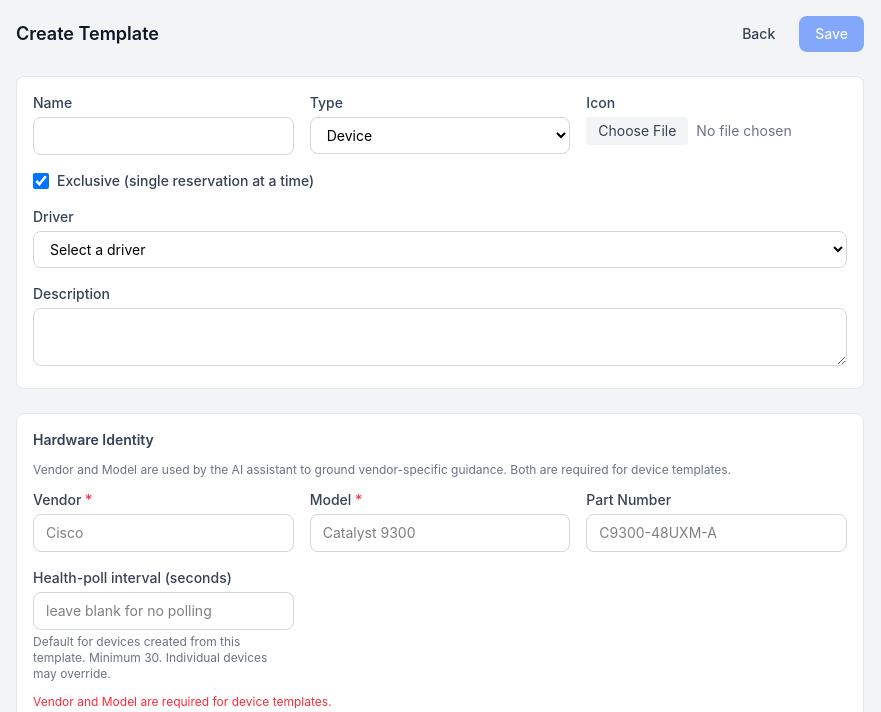
it: TemplateEditorPage (create flow) › dynamic type: does not require vendor/model (identity)
Step 1. Select "Dynamic (Hypervisor)" in the dropdown labelled "Type" → [440, 136], box x1=310 y1=117 x2=570 y2=154
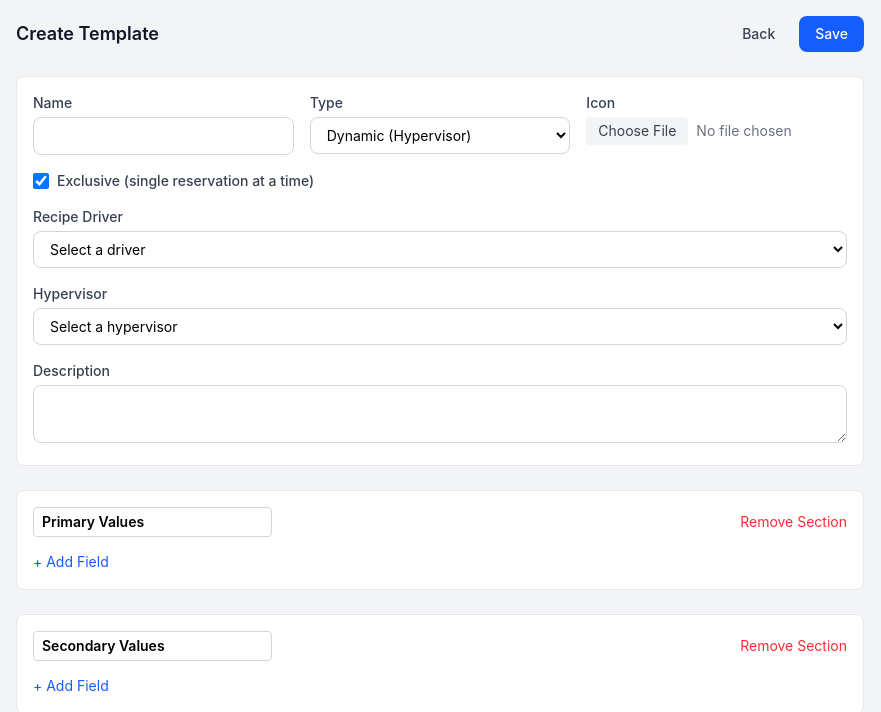
Result: the heading "Hardware Identity" is gone
